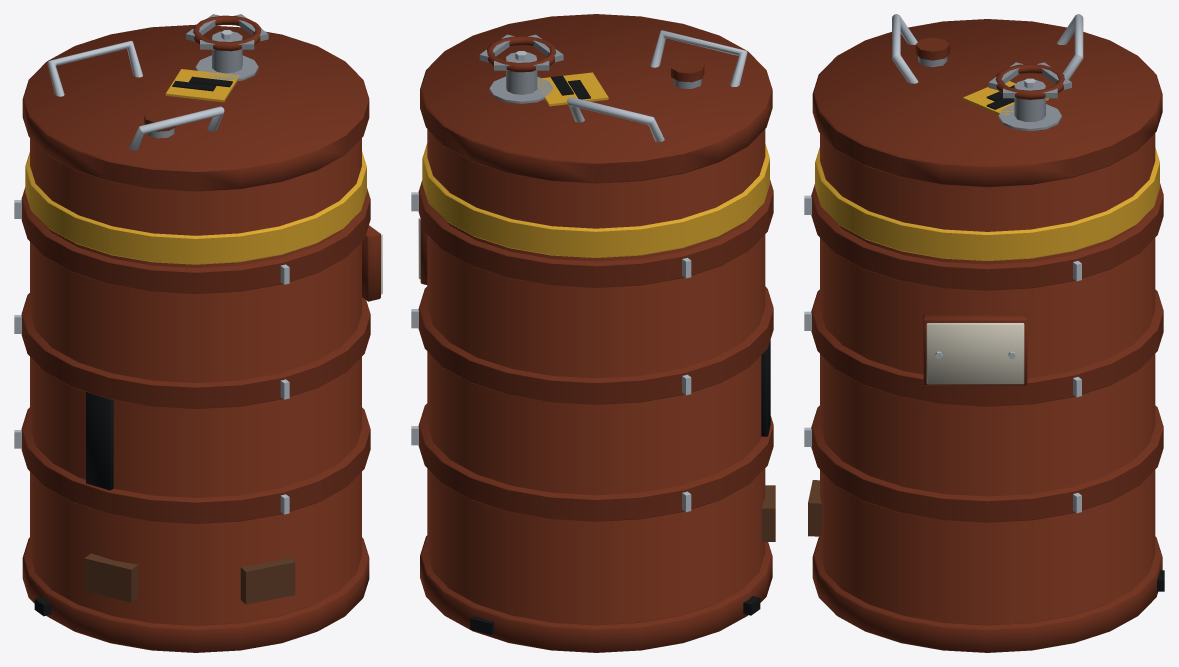
Rendered from barril_combustible.glb.
3 renders of one model, left to right at view 1: azimuth 30°, elevation 25°; view 2: azimuth 150°, elevation 25°; view 3: azimuth 270°, elevation 25°, orthographic.
Parts seen in each view (by area): view 1: cuerpo, tapa, franja_pintada, fondo, anillo_2, anillo_1, anillo_3, visor_nivel, oxido_2, oxido_1, soporte_etiqueta, placa_peligro (+5 smaller); view 2: cuerpo, tapa, franja_pintada, anillo_2, anillo_1, fondo, anillo_3, asa_izado_1, asa_izado_2, placa_peligro, volante, brida_valvula (+4 smaller); view 3: cuerpo, tapa, franja_pintada, fondo, anillo_1, anillo_3, anillo_2, placa_etiqueta, soporte_etiqueta, volante, asa_izado_1, brida_valvula (+5 smaller).
Boxes of the visible parts, box(x1,y1,x2,y2) form: cuerpo: box(30, 138, 361, 625); tapa: box(22, 24, 369, 191); franja_pintada: box(25, 151, 366, 264); fondo: box(22, 537, 369, 652); anillo_2: box(21, 293, 370, 408); anillo_1: box(21, 407, 370, 523); anillo_3: box(21, 187, 370, 293); visor_nivel: box(86, 392, 113, 490); oxido_2: box(240, 557, 295, 604); oxido_1: box(84, 553, 138, 602); soporte_etiqueta: box(362, 225, 380, 301); placa_peligro: box(165, 69, 238, 102); cuerpo: box(427, 129, 765, 625); tapa: box(420, 14, 772, 183); franja_pintada: box(422, 143, 769, 257); anillo_2: box(418, 286, 773, 404); anillo_1: box(418, 403, 773, 521); fondo: box(420, 535, 772, 652); anillo_3: box(418, 180, 773, 287); asa_izado_1: box(650, 30, 747, 86); asa_izado_2: box(567, 97, 664, 141); placa_peligro: box(537, 72, 608, 106); volante: box(487, 36, 556, 72); brida_valvula: box(489, 76, 553, 103); cuerpo: box(820, 133, 1155, 625); tapa: box(812, 19, 1162, 187); franja_pintada: box(815, 147, 1159, 260); fondo: box(812, 536, 1162, 652); anillo_1: box(811, 405, 1163, 522); anillo_3: box(811, 183, 1163, 290); anillo_2: box(811, 289, 1163, 406); placa_etiqueta: box(926, 323, 1024, 384); soporte_etiqueta: box(923, 313, 1027, 385); volante: box(995, 64, 1064, 99); asa_izado_1: box(892, 14, 918, 83); brida_valvula: box(998, 104, 1061, 131).
Size of the model in its own units: 0.606 by 0.9551 by 0.5917.
